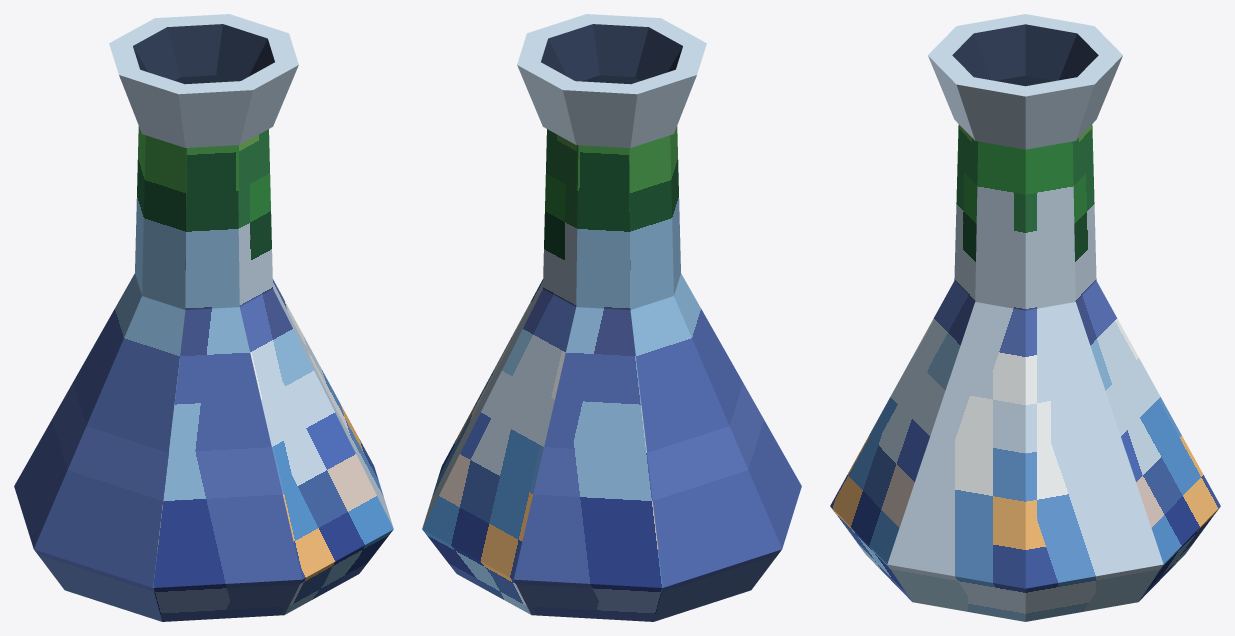
The model's file is vase.glb.
The picture shows the model from 3 angles, left to right: view 1: azimuth 30°, elevation 25°; view 2: azimuth 150°, elevation 25°; view 3: azimuth 270°, elevation 25°; orthographic projection.
Parts seen in each view (by area): view 1: vase; view 2: vase; view 3: vase.
Part boxes in pixels (x1,y1,x2,y2): vase: (14, 14, 393, 621); vase: (422, 14, 801, 621); vase: (830, 14, 1220, 621).
Size of the model in its own units: 0.7097 by 1 by 0.7097.
1 material, 1 textured.
